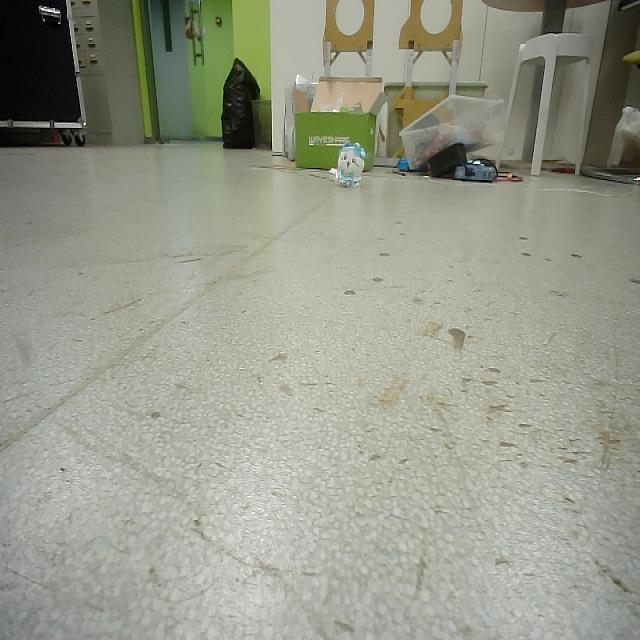xiaoba: (331, 138, 364, 188)
